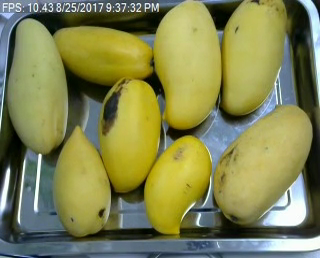Mango: (210, 103, 312, 224), (149, 1, 229, 133), (2, 17, 71, 154), (221, 0, 289, 119), (94, 74, 162, 189), (145, 130, 213, 235), (47, 24, 162, 83), (54, 124, 112, 235)
